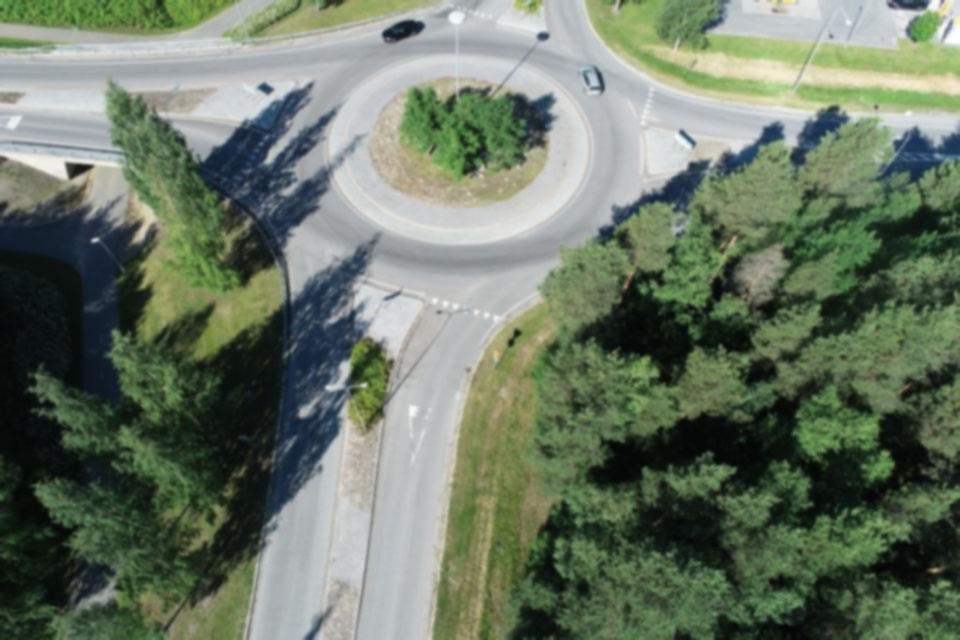roundabout: (242, 4, 680, 366)
